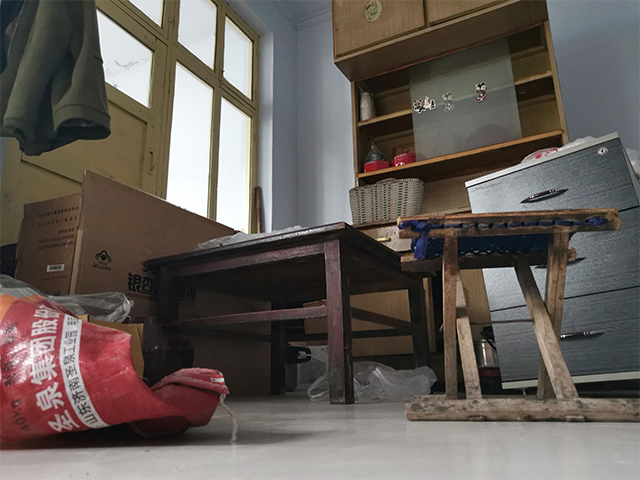cabinet: (462, 129, 639, 405)
stool: (395, 204, 640, 424)
table: (143, 220, 433, 407)
